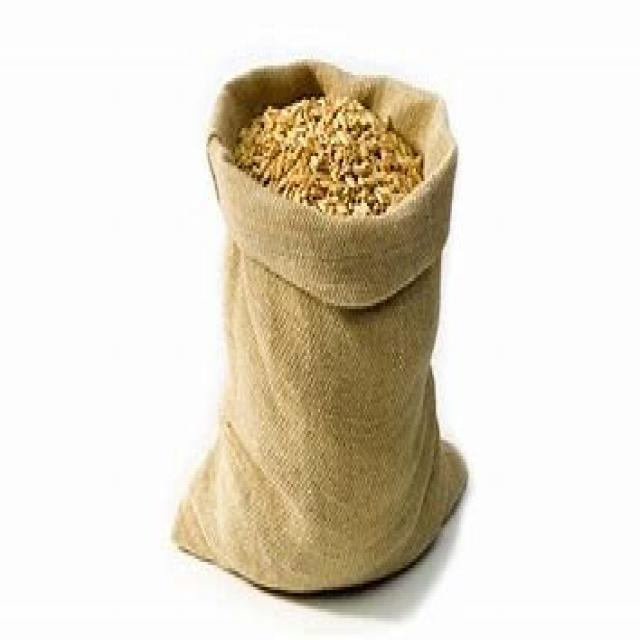gunny_bag: (173, 239, 475, 596)
